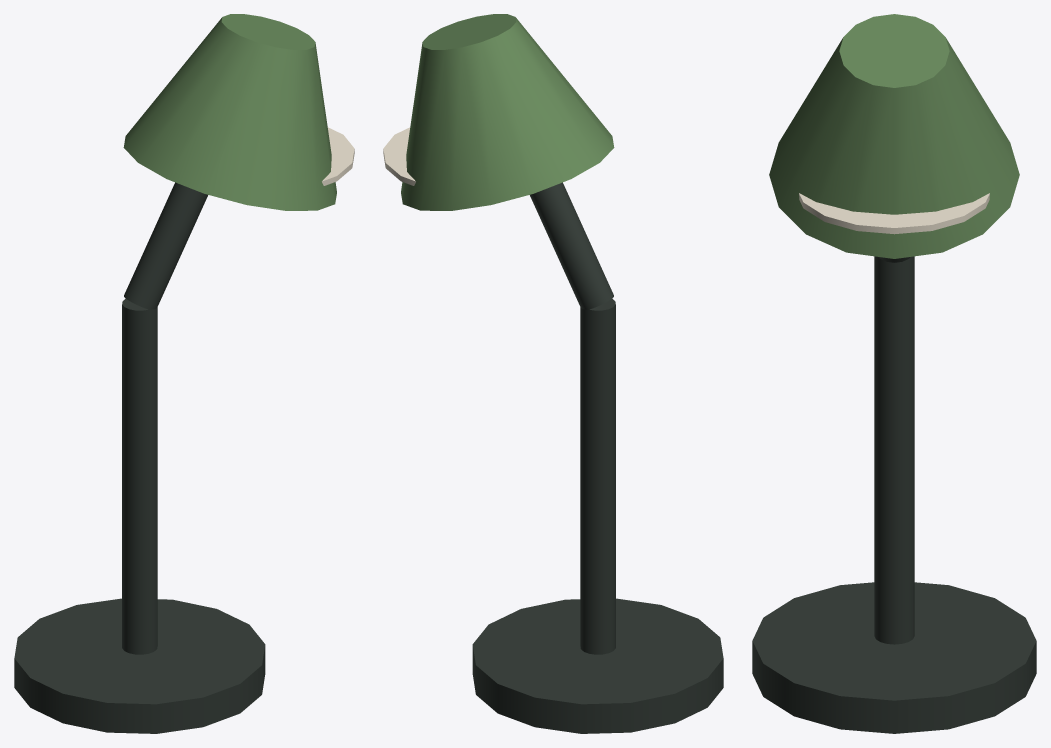
File: desk-lamp.glb
The picture shows the model from 3 angles, left to right: view 1: azimuth 30°, elevation 25°; view 2: azimuth 150°, elevation 25°; view 3: azimuth 270°, elevation 25°; orthographic projection. The views are drawn at different scales.
Visible parts, largest first — view 1: desk-lamp; view 2: desk-lamp; view 3: desk-lamp.
Part boxes in pixels (left/top/right/bottom): desk-lamp: left=14, top=14, right=354, bottom=733; desk-lamp: left=383, top=14, right=723, bottom=733; desk-lamp: left=752, top=14, right=1036, bottom=733.
Bounding box in the file's own units: 0.243 × 0.4675 × 0.17.
